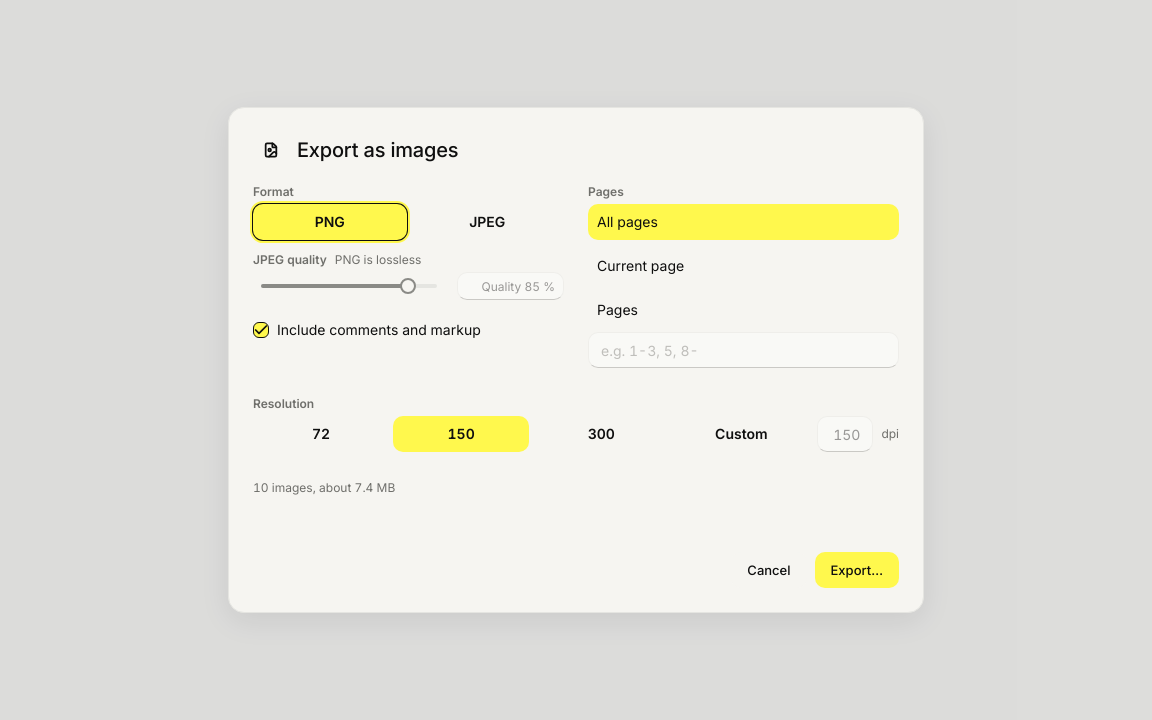
Test: the dialog › blocks Go on an invalid range and says why
The width and height of the screenshot is (1152, 720).
Expected: the dialog is shown, [228,107,924,613]
Click the radio button labelled "Pages" at (617, 310), box [588,292,899,328]
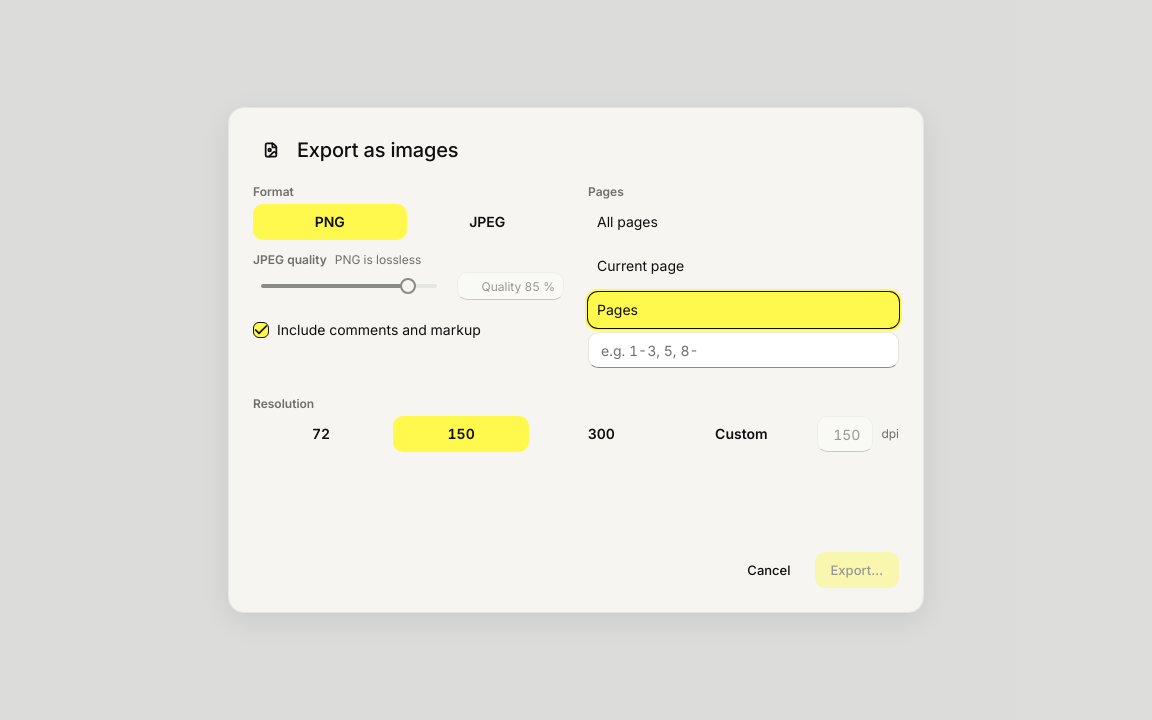
Type "3-99" into the field named "Page ranges" at (744, 350), box [588,332,899,368]
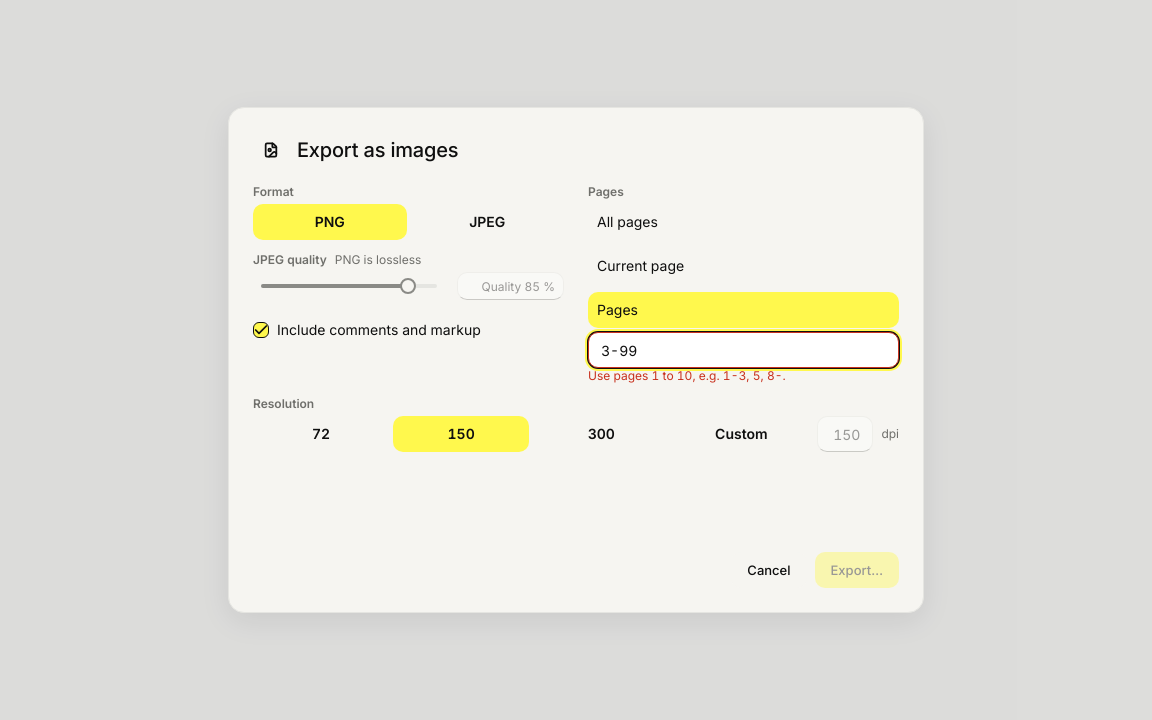
Now the text "Use pages 1 to 10, e.g. 1-3, 5, 8-." is shown, box [588,368,786,384]
